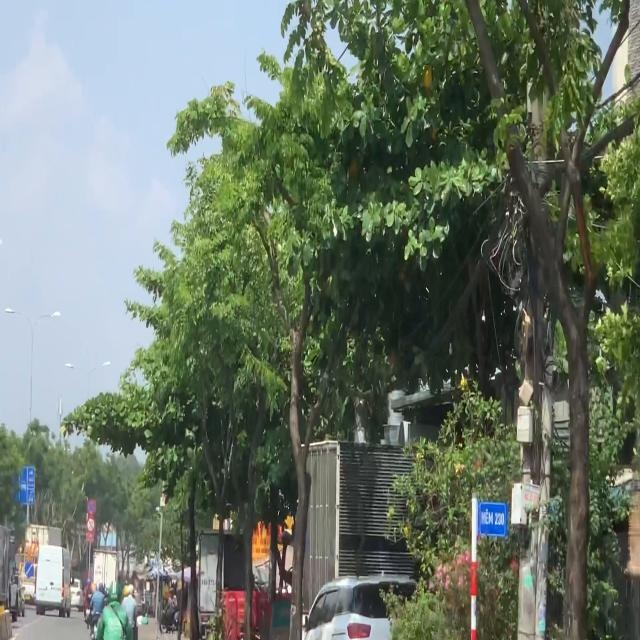bien_cam: (25, 561, 34, 579), (86, 498, 95, 516)
